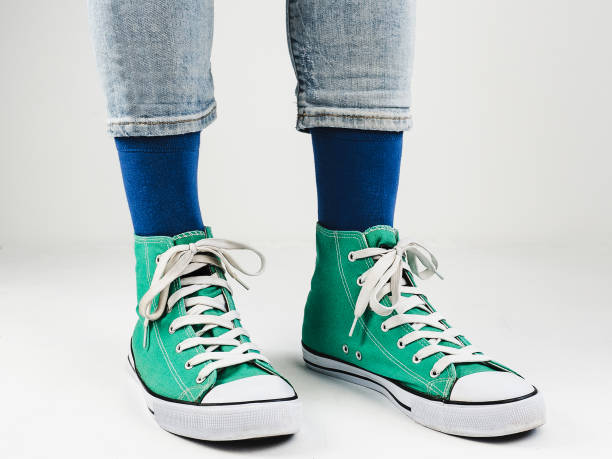Footwear: (120, 219, 303, 444)
